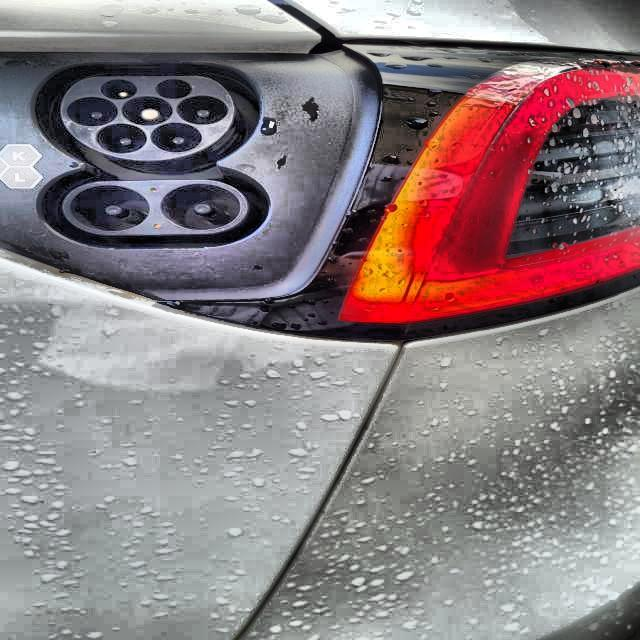inlet: (61, 76, 235, 161)
inlet-above-left: (101, 79, 138, 100)
inlet-above-right: (155, 79, 192, 99)
inlet-below-left: (97, 123, 147, 153)
inlet-below-right: (150, 123, 202, 153)
inlet-center: (122, 96, 173, 126)
inlet-center-left: (67, 97, 118, 126)
inlet-center-right: (177, 95, 228, 125)
